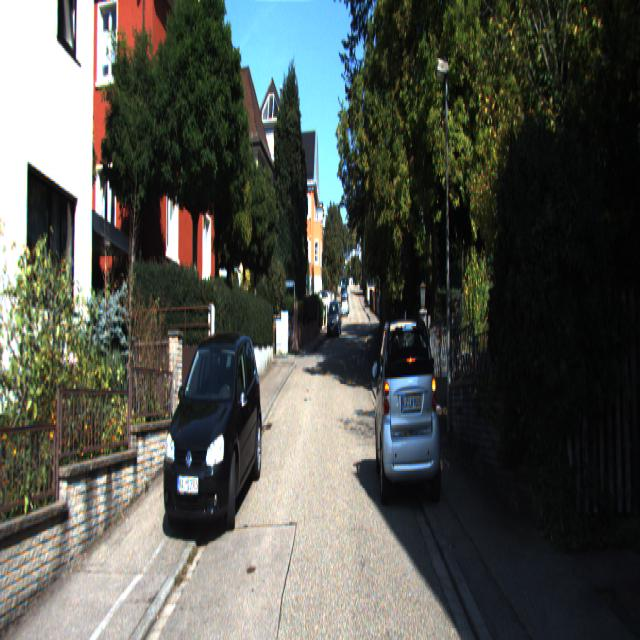Car: (159, 325, 263, 545), (372, 304, 442, 505), (325, 301, 342, 337)
